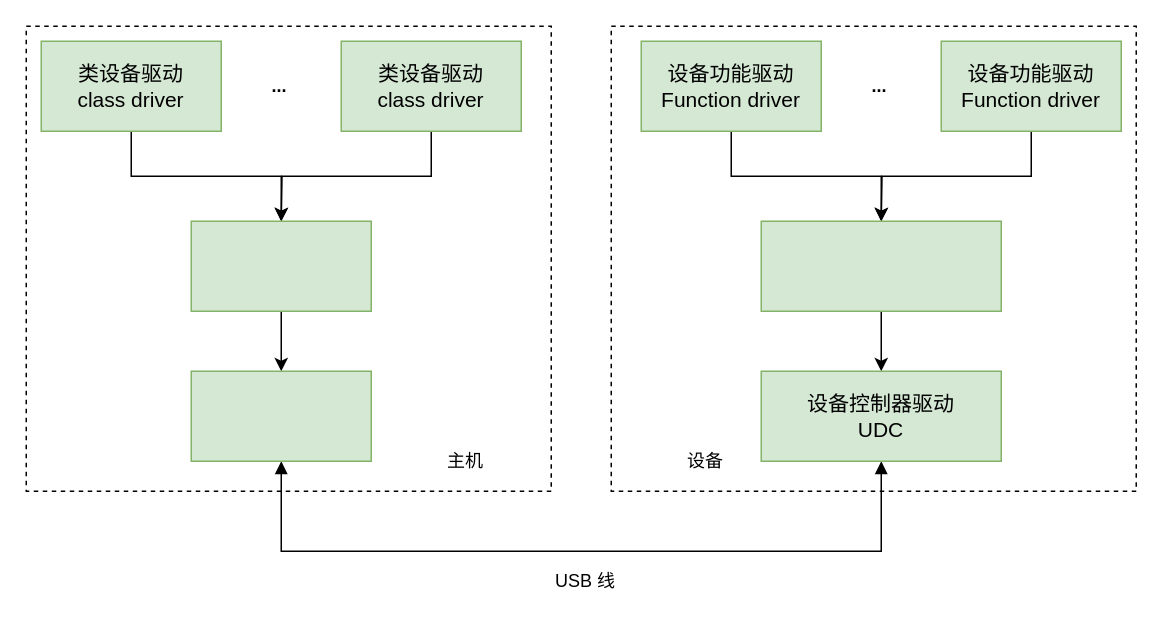
This 1163x623 diagram has some shape labels left out. The shapes that lost their labels are listed below. From the top down, each one's centre as x and y in pixels, then its label:
At [280,265]: "USB备驱动 USB device driver".
At [880,265]: "Gadget设备驱动 Gadget device driver".
At [280,415]: "主机控制器驱动 HDC".
